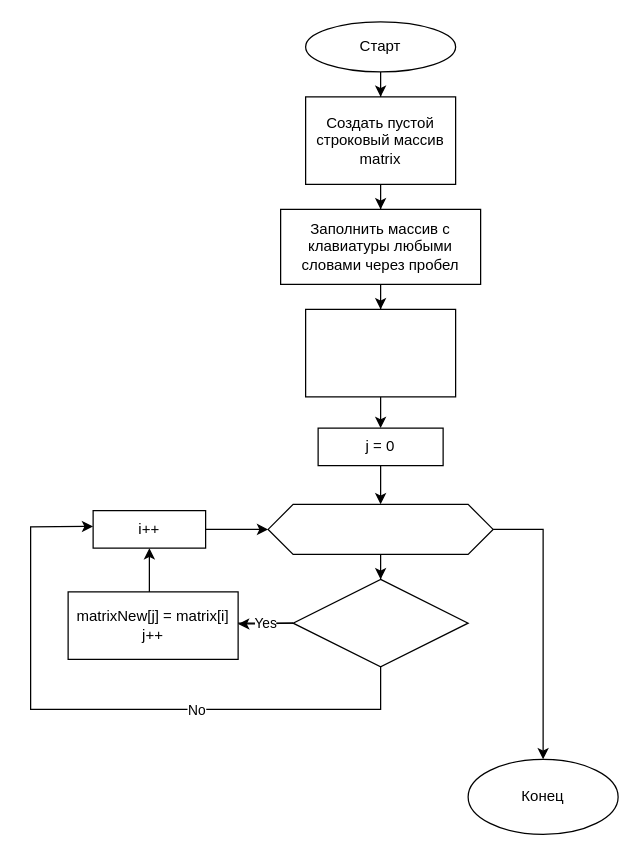
This 640x856 diagram has some shape labels left out. Here are the shapes that lost their labels. From the top down, the centre of each, then its label:
At (380,352): "Создать пустой строковый массив matrixNew".
At (380,528): "i = 0, i < matrix.Length, 1".
At (380,622): "matrix[i].Length < 4".
